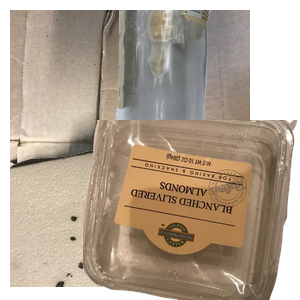cardboard: (10, 10, 250, 190)
glass: (113, 10, 300, 190)
plastic: (83, 120, 300, 300)
trash: (10, 120, 250, 300)
